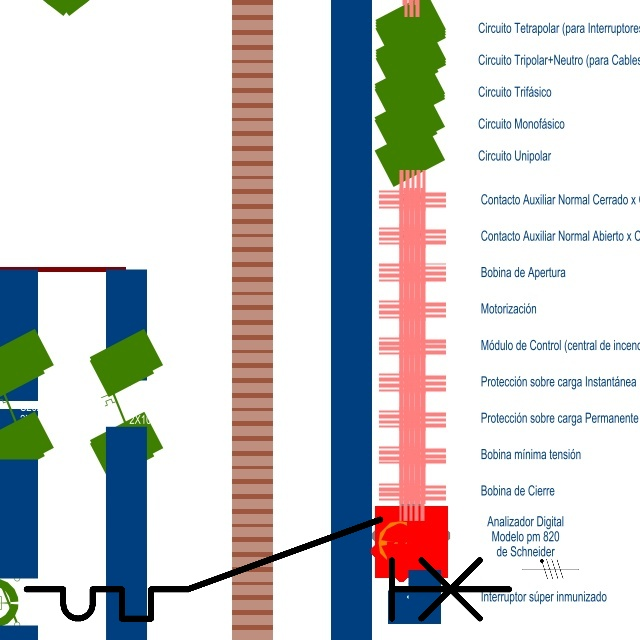interruptor_termomagnetico: (14, 507, 522, 631)
